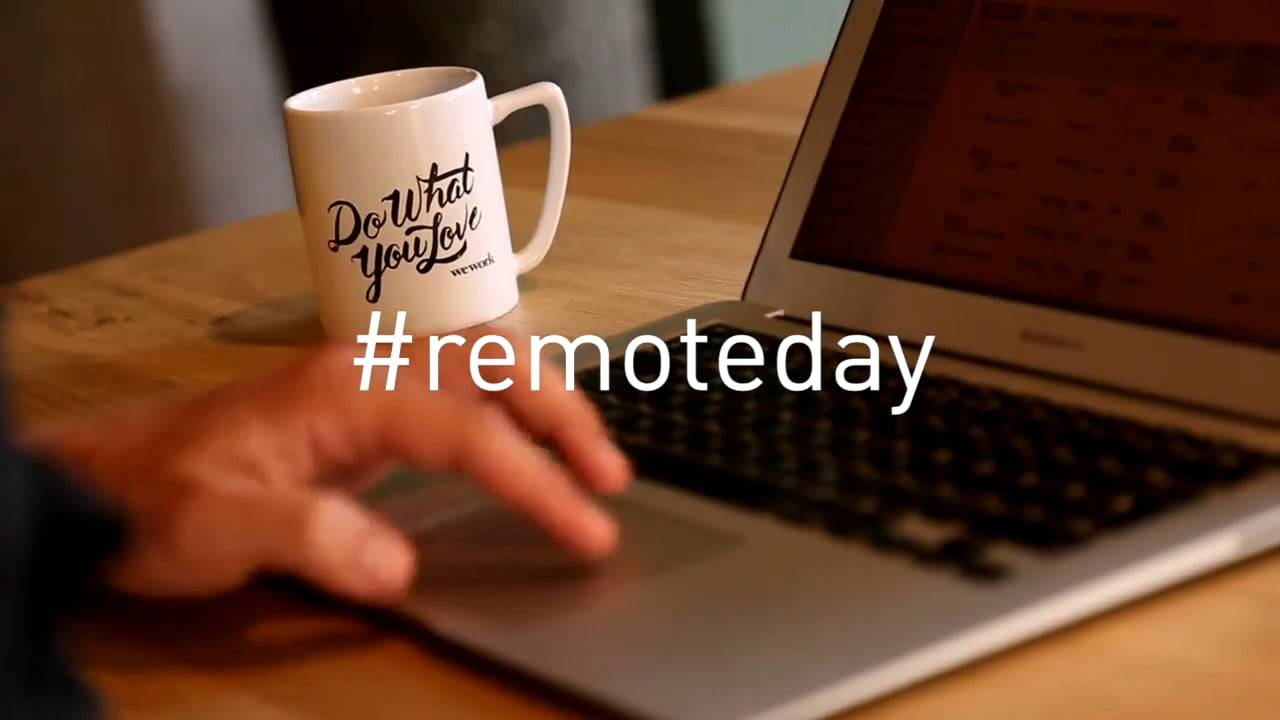wework: (445, 251, 496, 277)
